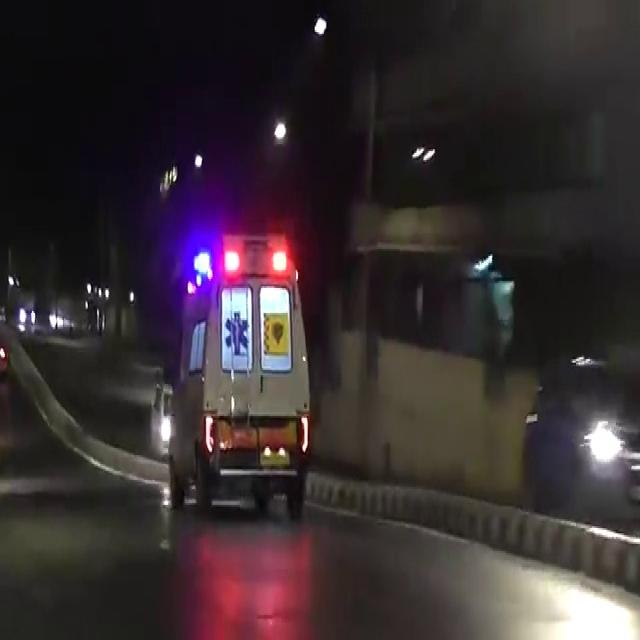ambulance: (172, 240, 318, 515)
